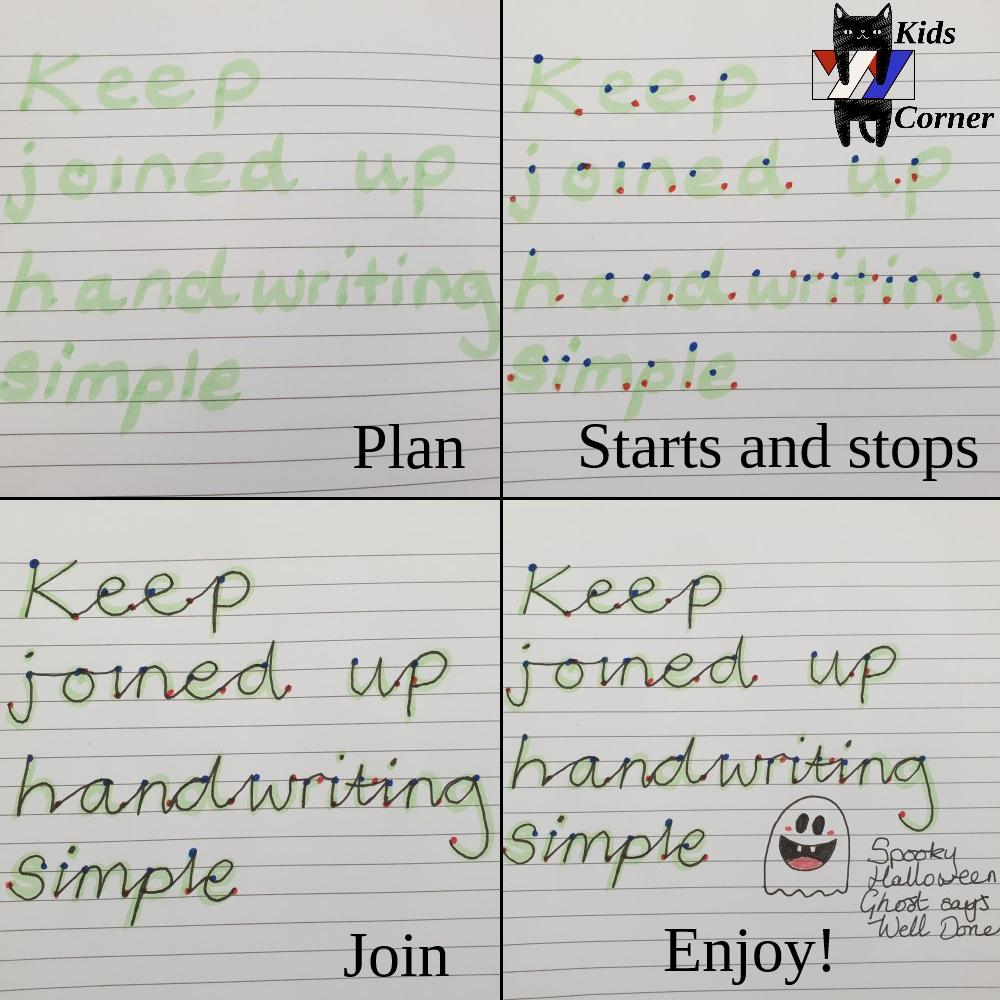text: (0, 241, 504, 363), (510, 241, 1000, 363), (13, 750, 494, 866), (501, 733, 943, 839), (4, 633, 454, 729), (503, 136, 954, 227), (1, 137, 459, 226), (501, 631, 904, 711), (574, 419, 984, 489), (0, 336, 247, 439), (517, 50, 761, 141), (6, 840, 241, 934), (506, 334, 747, 424), (17, 551, 261, 639), (16, 50, 263, 131), (500, 813, 714, 891), (519, 560, 730, 636), (661, 921, 836, 993), (349, 420, 467, 474), (340, 929, 453, 983), (853, 886, 997, 921), (864, 836, 966, 877), (861, 863, 1000, 893), (866, 914, 1000, 943), (894, 103, 997, 134), (891, 16, 957, 53)
